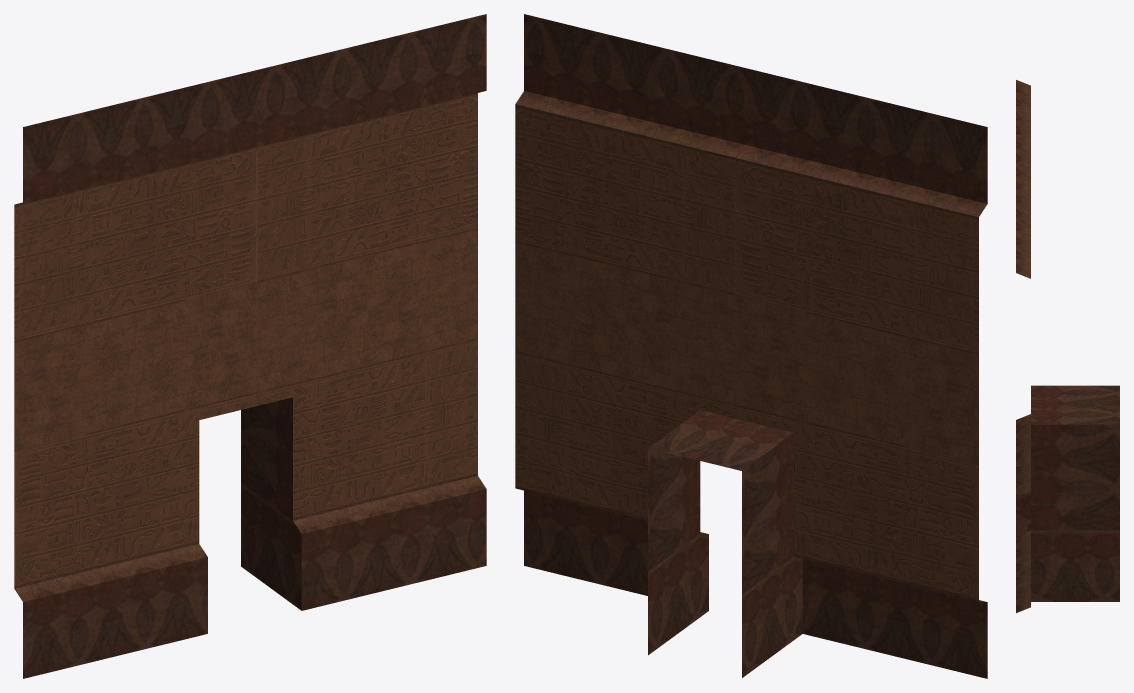
Rendered from Wall_Inside_Door_1x1.fbx.
The picture shows the model from 3 angles, left to right: view 1: azimuth 30°, elevation 25°; view 2: azimuth 150°, elevation 25°; view 3: azimuth 270°, elevation 25°; orthographic projection. The views are drawn at different scales.
Parts seen in each view (by area): view 1: Wall_Inside_Door_1x1; view 2: Wall_Inside_Door_1x1; view 3: Wall_Inside_Door_1x1.
Boxes of the visible parts, x1,y1,x2,y2 form: Wall_Inside_Door_1x1: (14, 14, 486, 678); Wall_Inside_Door_1x1: (515, 14, 987, 678); Wall_Inside_Door_1x1: (1016, 80, 1119, 612).
Bounding box in the file's own units: 116 × 26.46 × 132.
